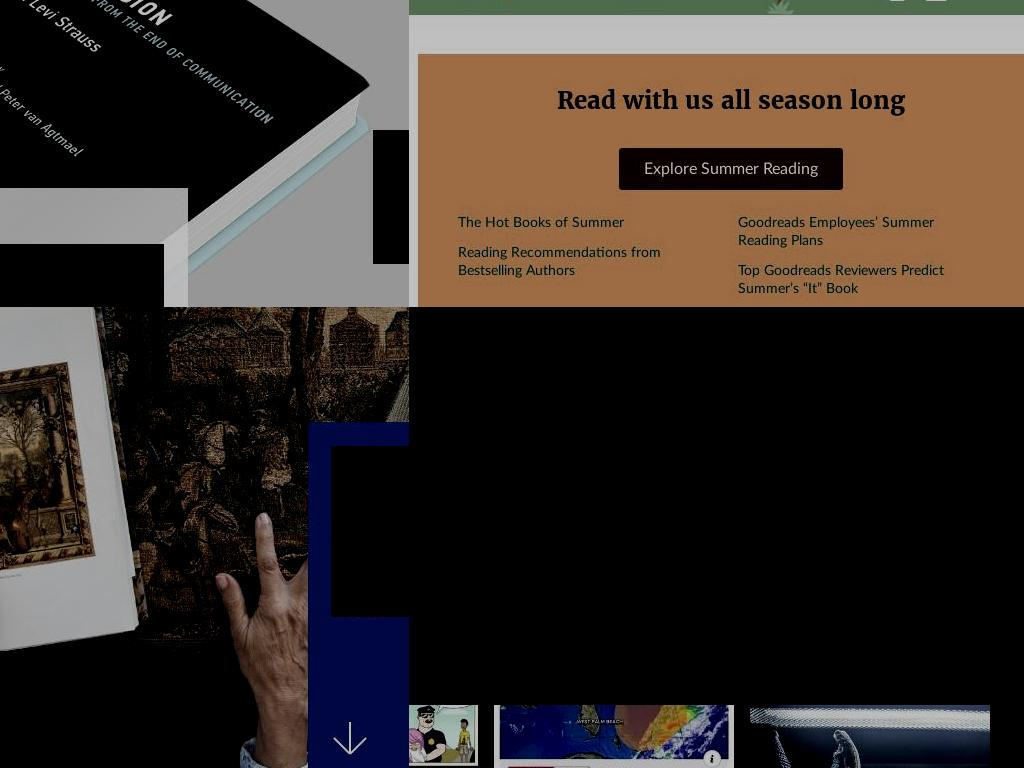button: (494, 665, 734, 768), (750, 665, 990, 768), (437, 463, 547, 593), (559, 463, 669, 593), (681, 463, 791, 593), (803, 463, 913, 593), (331, 446, 409, 617), (925, 463, 1024, 593), (618, 148, 843, 190), (373, 130, 409, 264), (331, 720, 409, 757), (922, 433, 1024, 450), (799, 334, 836, 370), (956, 343, 1000, 361), (901, 355, 933, 371)
field: (409, 334, 836, 370)
heading: (0, 244, 164, 307), (331, 446, 409, 554)
image: (409, 307, 1024, 705), (0, 307, 409, 768), (494, 665, 734, 768), (750, 665, 990, 768), (409, 665, 478, 768), (331, 721, 368, 757), (901, 338, 933, 370), (807, 342, 828, 362), (890, 631, 913, 649), (943, 631, 960, 649), (973, 631, 990, 649)
link: (737, 264, 944, 296), (458, 246, 661, 278), (737, 216, 934, 248), (458, 216, 624, 230)
text: (434, 86, 1024, 116), (409, 392, 893, 426), (571, 529, 657, 561), (693, 529, 779, 561), (815, 529, 901, 561), (937, 529, 1023, 561), (449, 545, 535, 561), (449, 565, 535, 581), (571, 565, 657, 581), (693, 565, 779, 581), (815, 565, 901, 581), (937, 565, 1023, 581), (331, 602, 409, 617), (772, 632, 844, 648), (954, 680, 975, 699)
